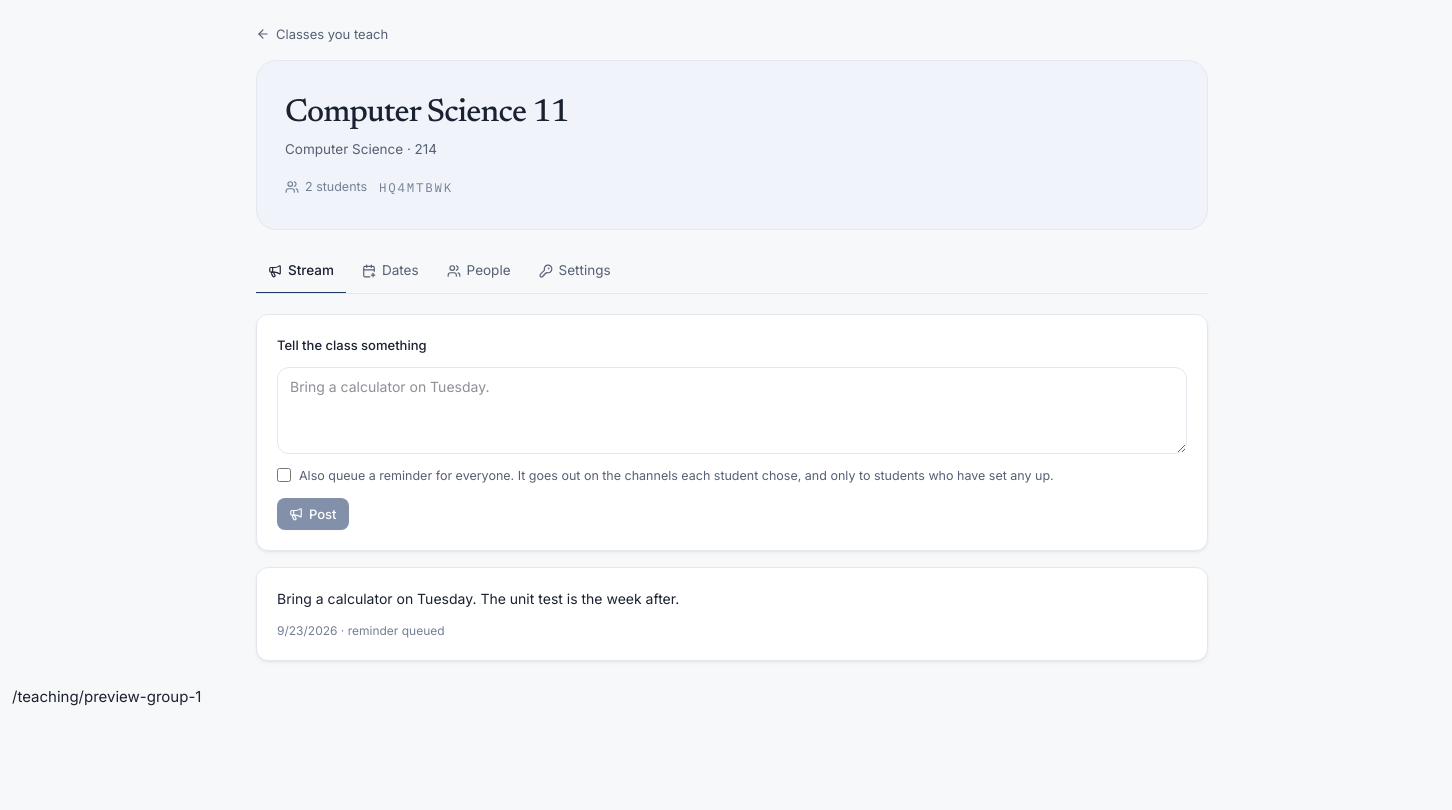
Test: one class, as its teacher › puts the tab in the address, so Back leaves the tab and not the class
This screenshot has width=1452, height=810.
Click the button "Settings" at point(574, 272), box [526, 250, 622, 294]
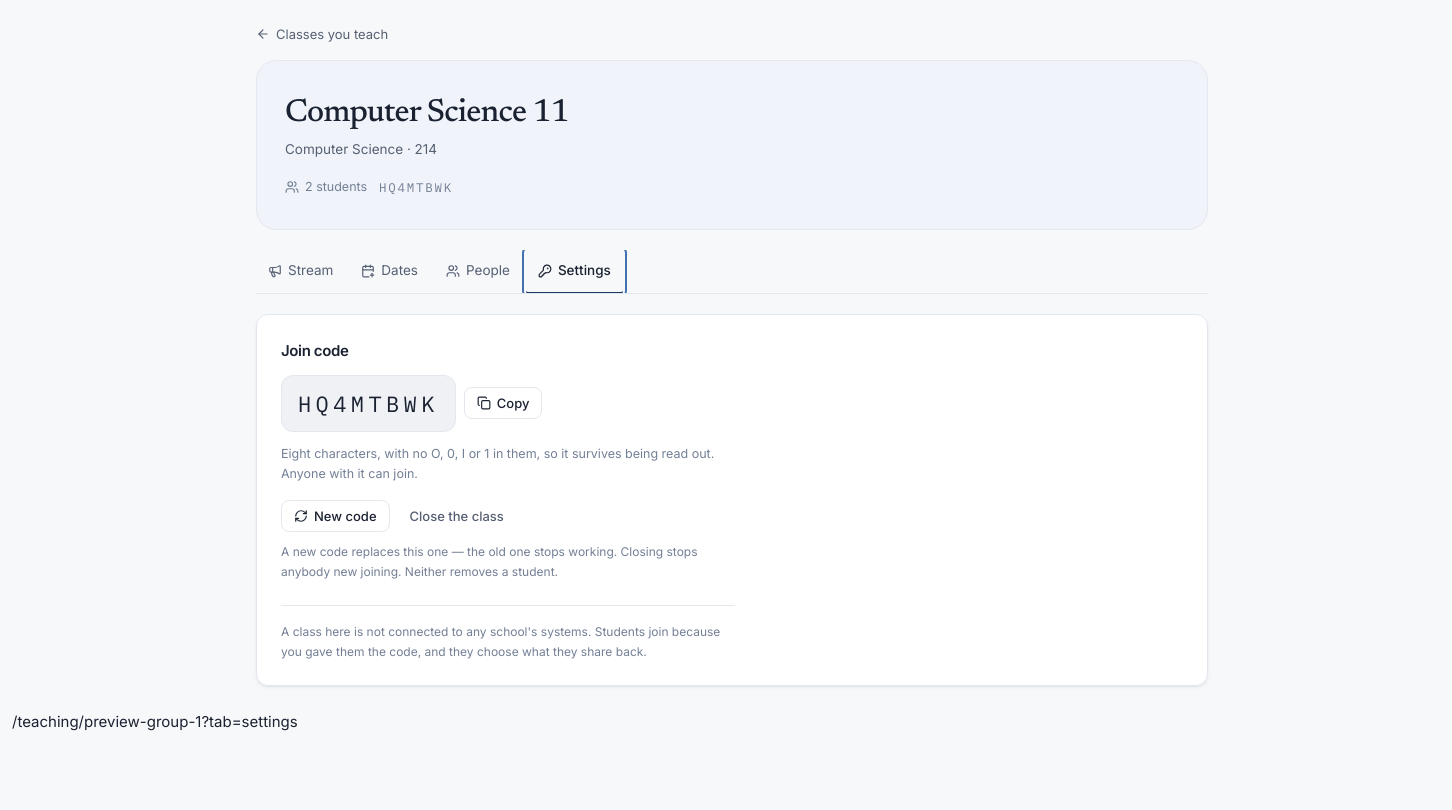
Expected: the button "Copy" is shown, [464, 387, 542, 419]
Expected: the text with test id "where" shows "tab=settings", [12, 712, 298, 731]
